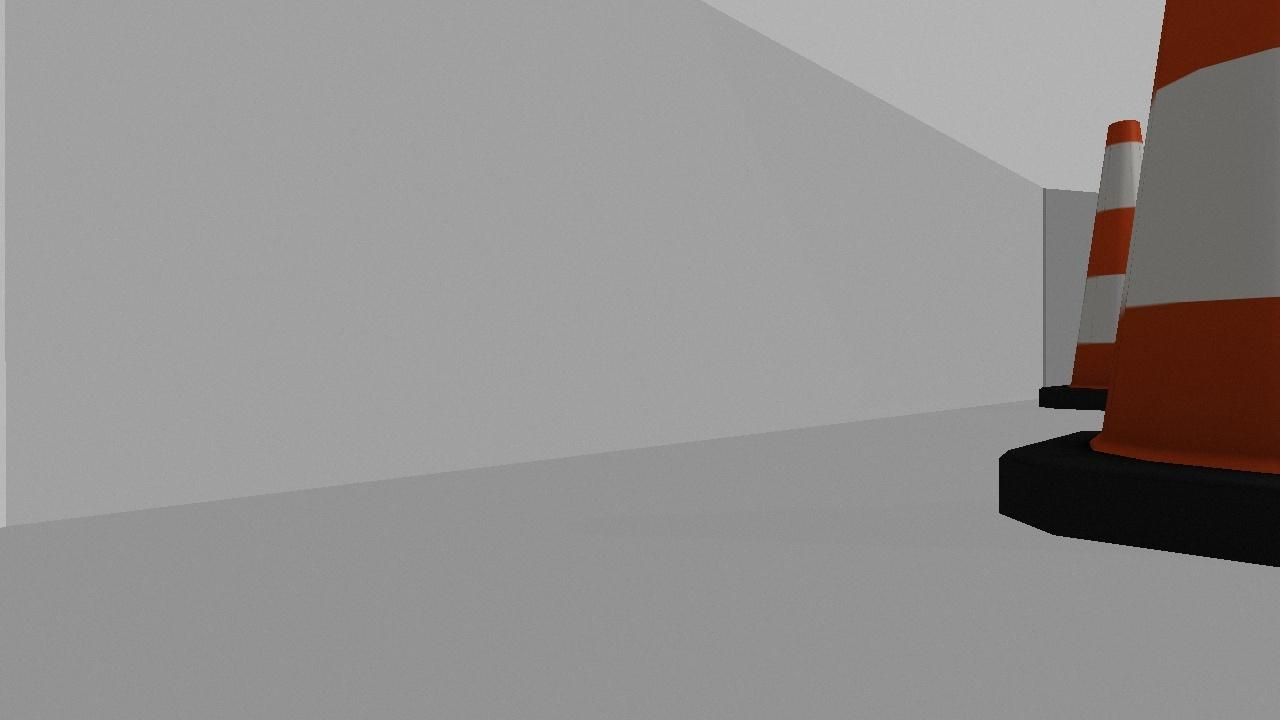cone_barrel: (999, 0, 1279, 572), (1038, 120, 1186, 413)
